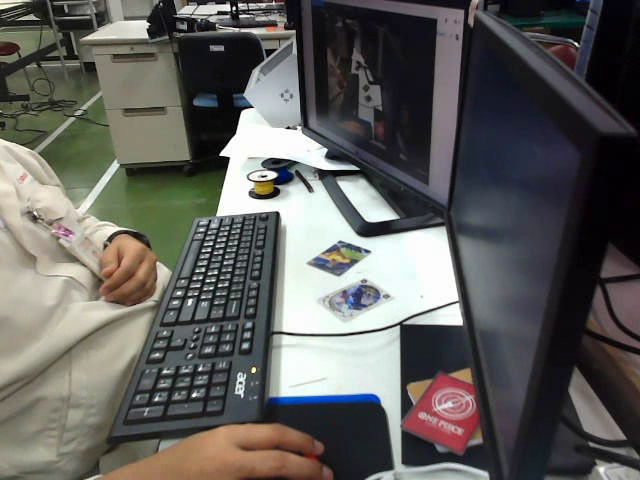can: (314, 272, 392, 319), (304, 239, 376, 276)
